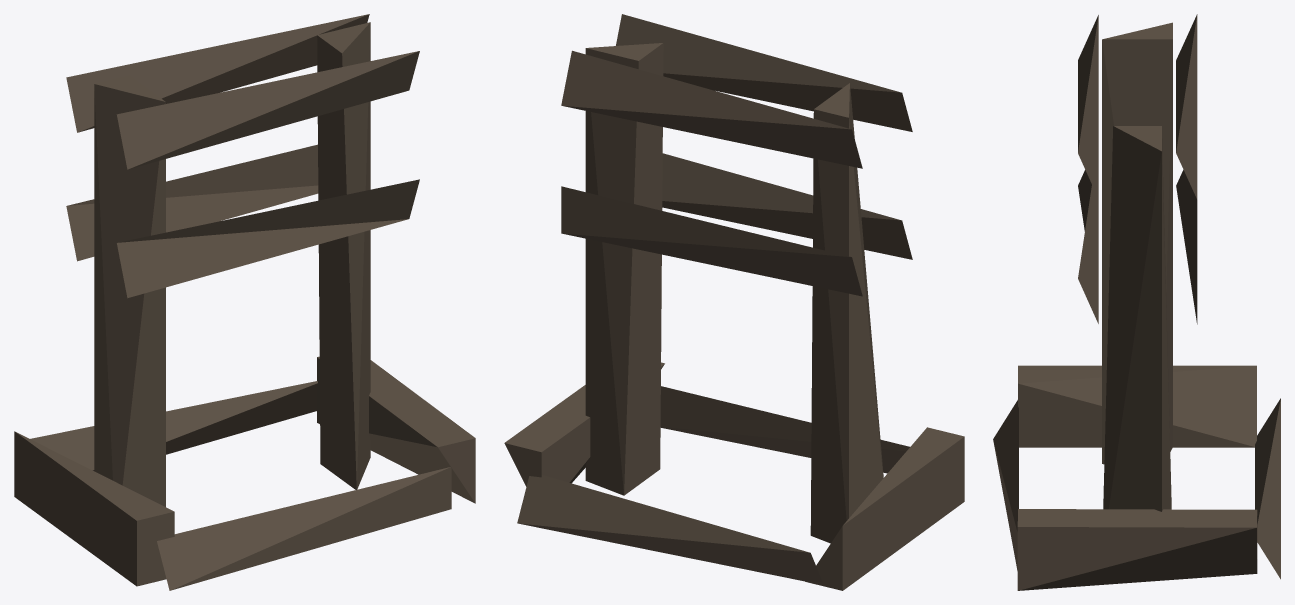
File: weapon-rack-b.lod2.glb
3 renders of one model, left to right at view 1: azimuth 30°, elevation 25°; view 2: azimuth 150°, elevation 25°; view 3: azimuth 270°, elevation 25°, orthographic. The views are drawn at different scales.
Parts seen in each view (by area): view 1: defaultMaterial; view 2: defaultMaterial; view 3: defaultMaterial.
Boxes of the visible parts, bbox=[...] form: defaultMaterial: bbox=[14, 14, 475, 590]; defaultMaterial: bbox=[504, 14, 964, 590]; defaultMaterial: bbox=[993, 14, 1280, 590].
Bounding box in the file's own units: 1.61 × 1.97 × 1.21.
